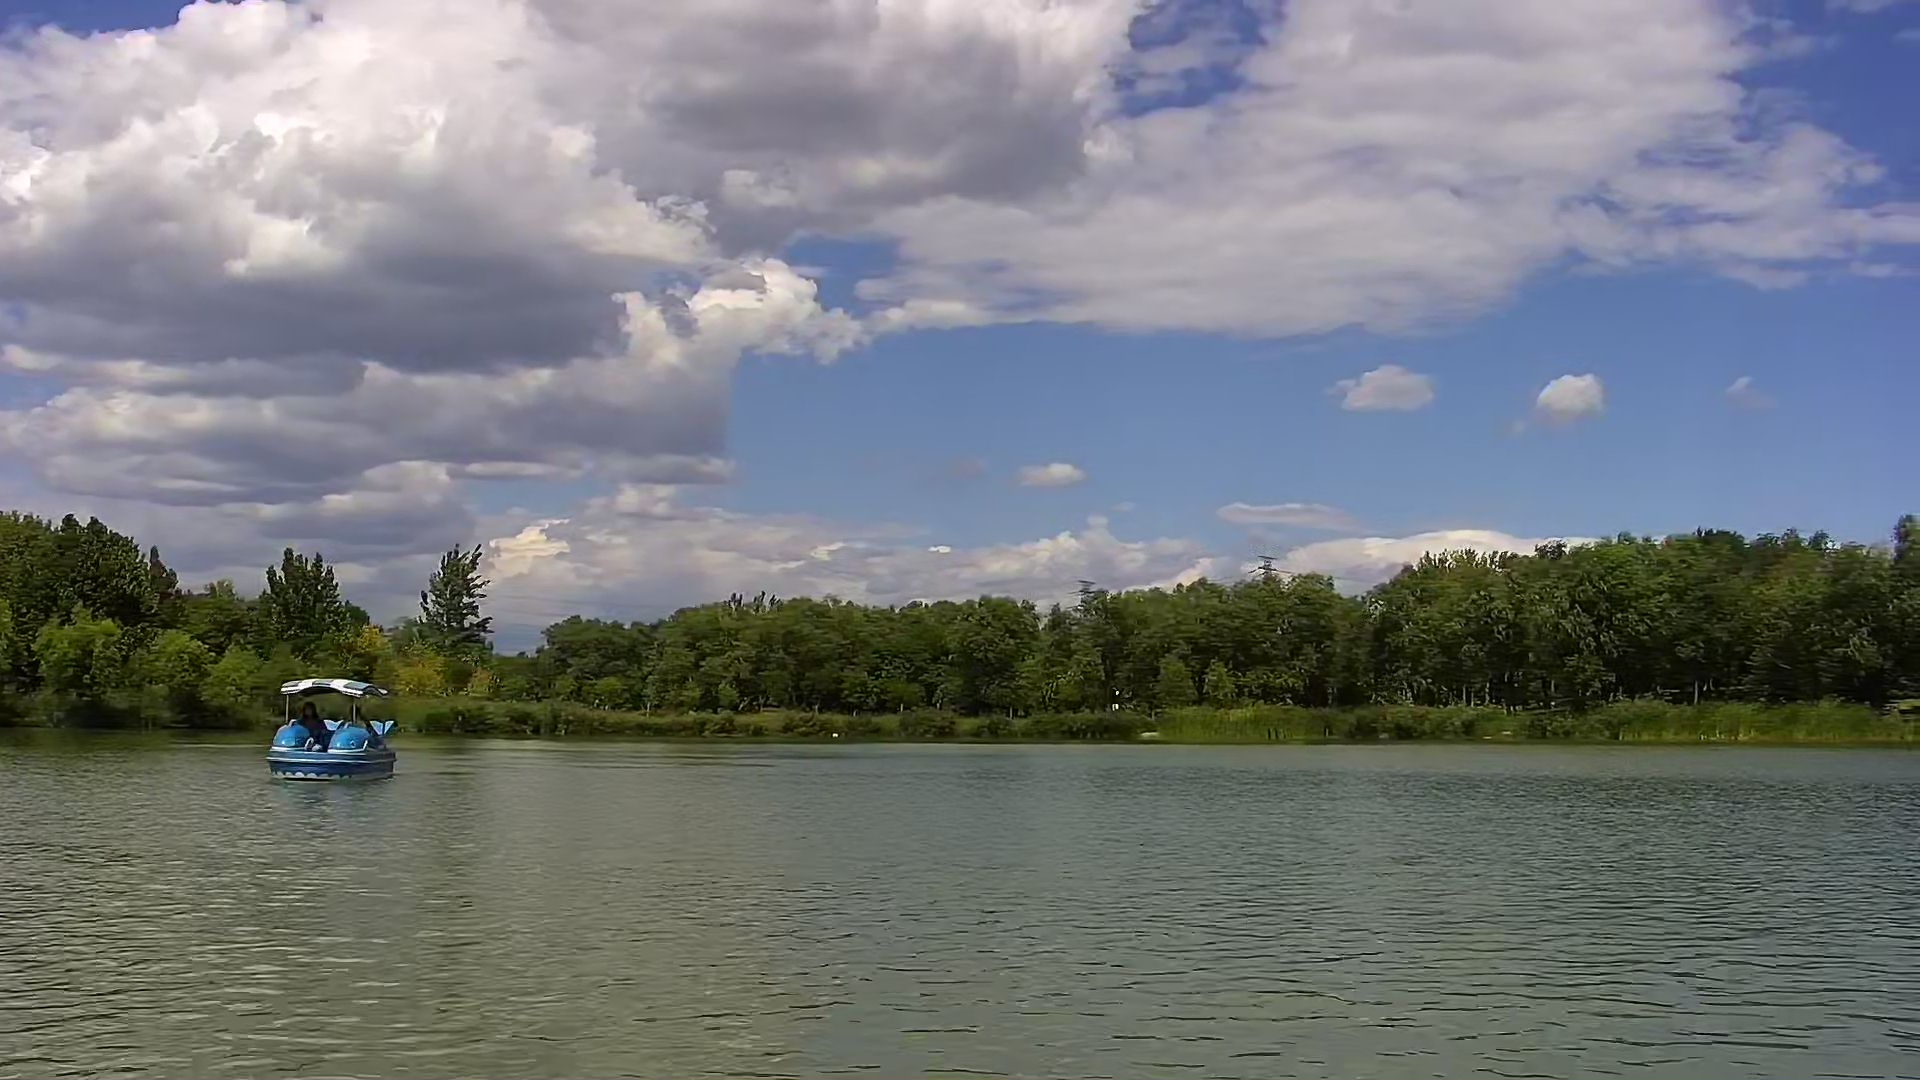boat: (266, 676, 396, 790)
